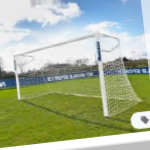goals: (11, 28, 144, 114)
